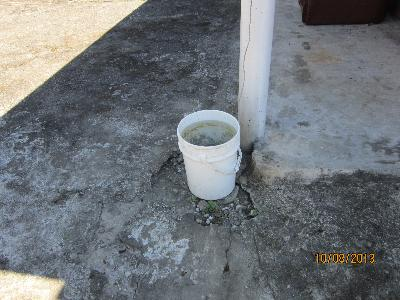bucket: (176, 108, 242, 201)
